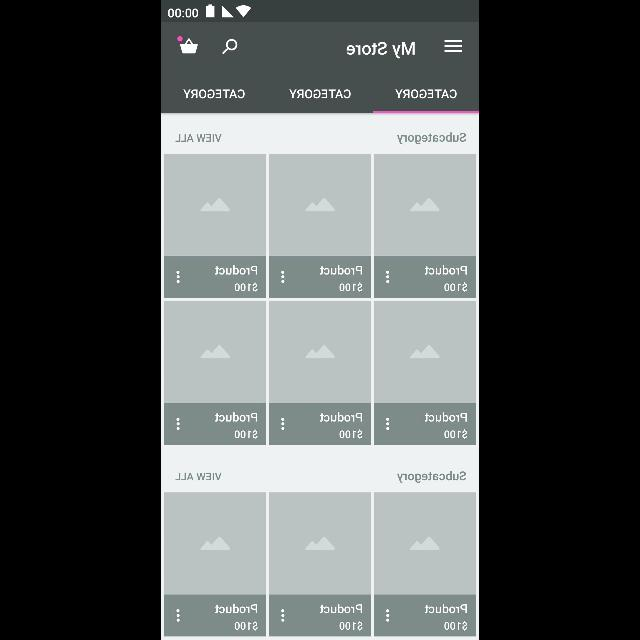icon: (177, 36, 197, 54), (444, 40, 462, 52), (222, 40, 236, 54), (385, 270, 389, 284), (280, 270, 284, 284), (280, 608, 284, 622), (175, 608, 179, 622), (385, 418, 389, 430), (175, 418, 179, 430), (386, 608, 388, 622), (176, 271, 178, 283)
image: (373, 154, 475, 256), (269, 154, 371, 256), (163, 154, 265, 256), (163, 301, 265, 403), (374, 492, 476, 594), (269, 492, 371, 594), (268, 301, 369, 403), (373, 302, 475, 402), (163, 494, 265, 594)
text: (347, 42, 415, 58), (396, 132, 466, 146), (396, 471, 466, 484), (395, 89, 457, 99), (290, 89, 350, 99), (320, 602, 362, 614), (182, 90, 244, 98), (318, 265, 362, 275), (319, 412, 363, 422), (424, 603, 468, 613), (215, 265, 258, 275), (424, 265, 466, 275), (424, 412, 466, 422), (215, 412, 257, 422), (214, 603, 256, 613), (175, 134, 221, 142), (175, 472, 221, 480), (444, 620, 468, 632), (338, 428, 362, 439), (234, 620, 256, 632), (443, 282, 467, 292), (338, 282, 362, 292), (233, 282, 257, 292), (444, 429, 468, 439), (338, 621, 362, 631), (234, 429, 256, 439)
uppertaskbar: (160, 0, 478, 22)
